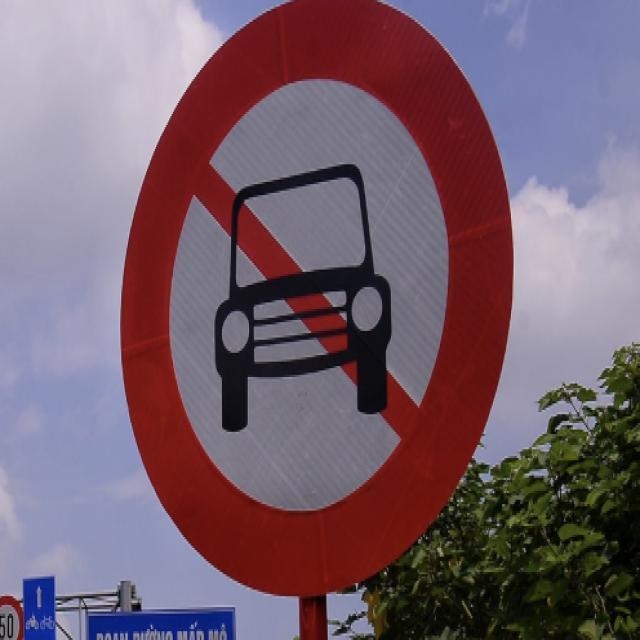103a-cam-oto: (120, 1, 514, 595)
127-toc-do-toi-da-50: (0, 592, 24, 640)
